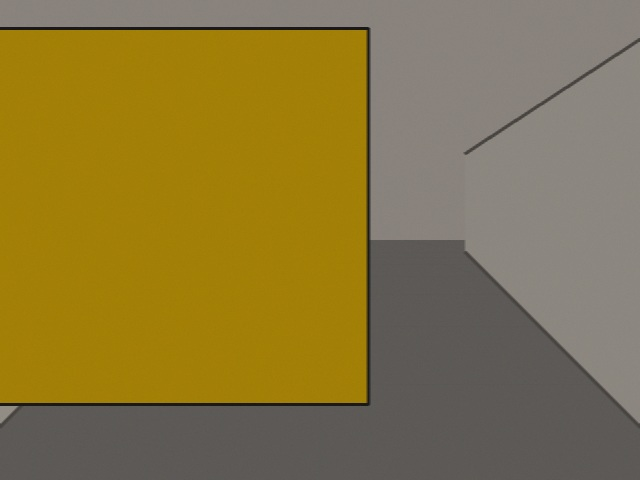directional_sign: (258, 164, 332, 202)
forklift: (0, 0, 368, 404)
